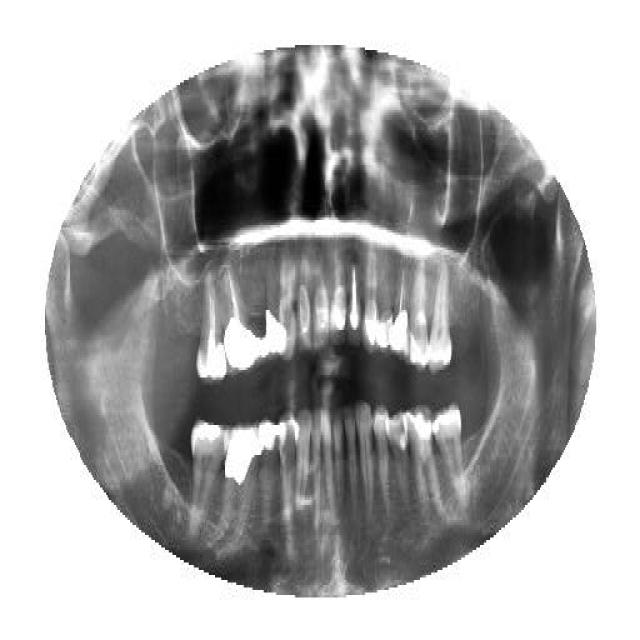Fillings: (220, 420, 260, 538), (403, 400, 442, 520), (259, 420, 275, 550), (266, 258, 280, 360), (246, 315, 270, 373), (376, 300, 394, 355)
Implant: (196, 270, 225, 385), (226, 268, 248, 378), (391, 257, 410, 355)
